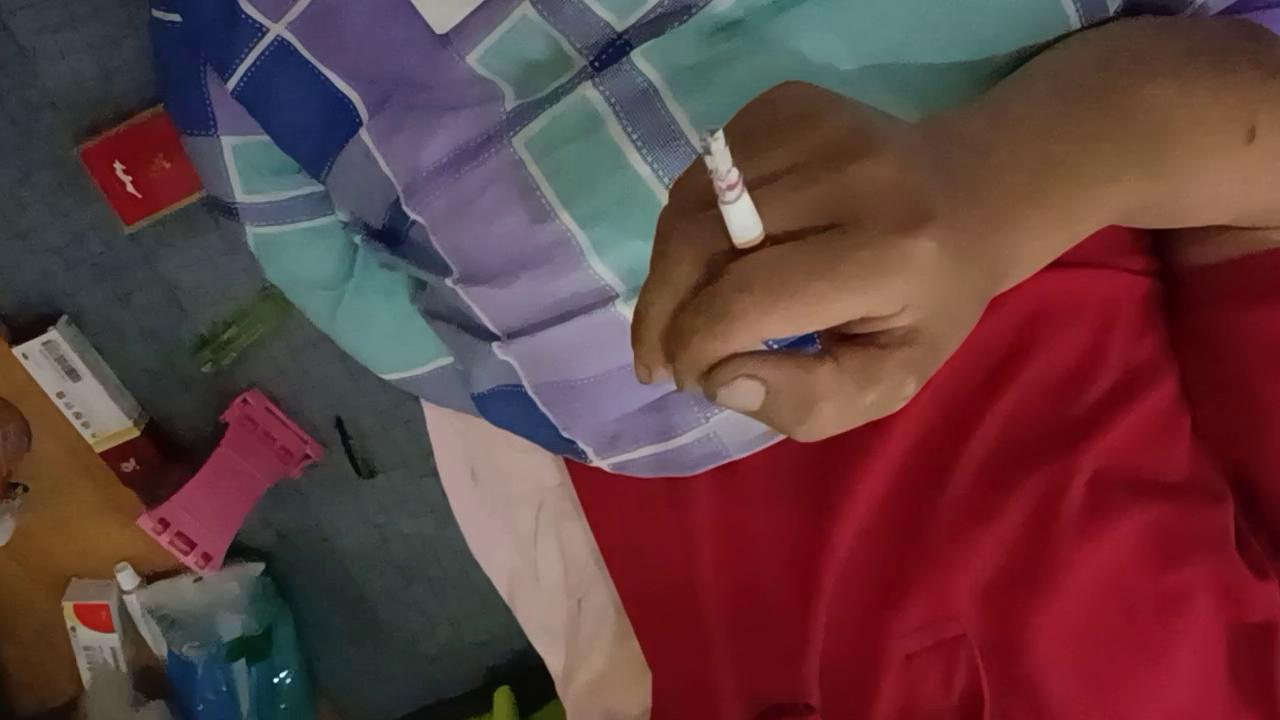smoke: (704, 127, 780, 281)
